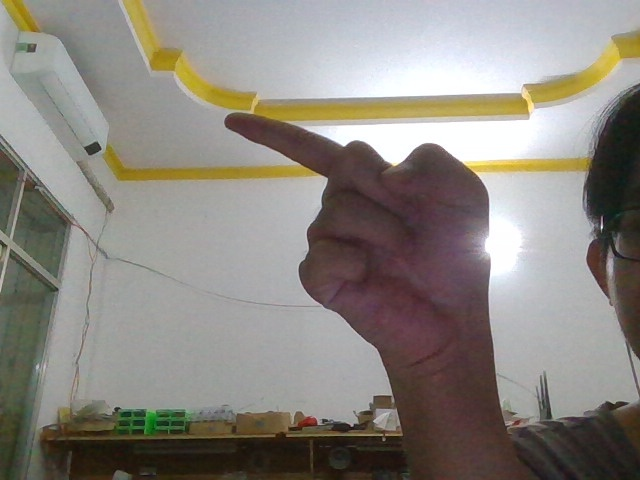turn_right: (211, 101, 503, 364)
